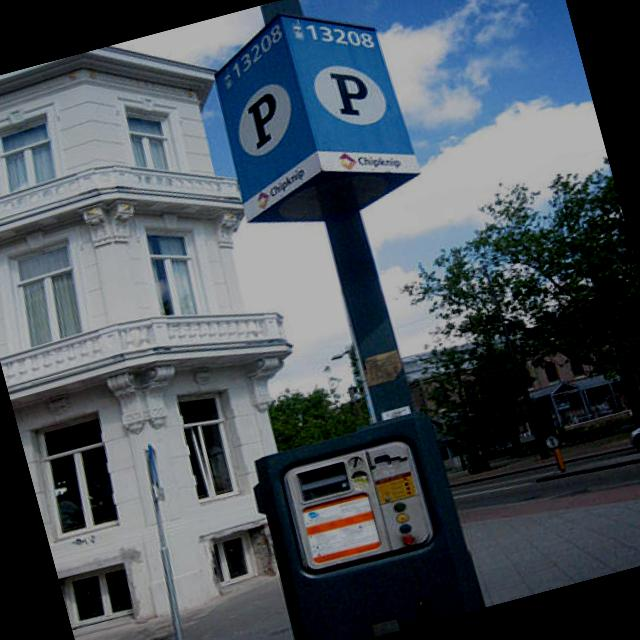Vehicle: (621, 402, 640, 453)
